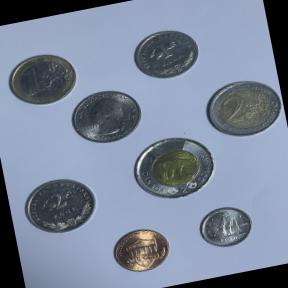coin: (124, 127, 222, 210), (197, 71, 288, 145), (16, 170, 102, 242), (66, 83, 147, 150), (1, 46, 82, 112), (106, 222, 176, 282), (192, 198, 260, 255)
